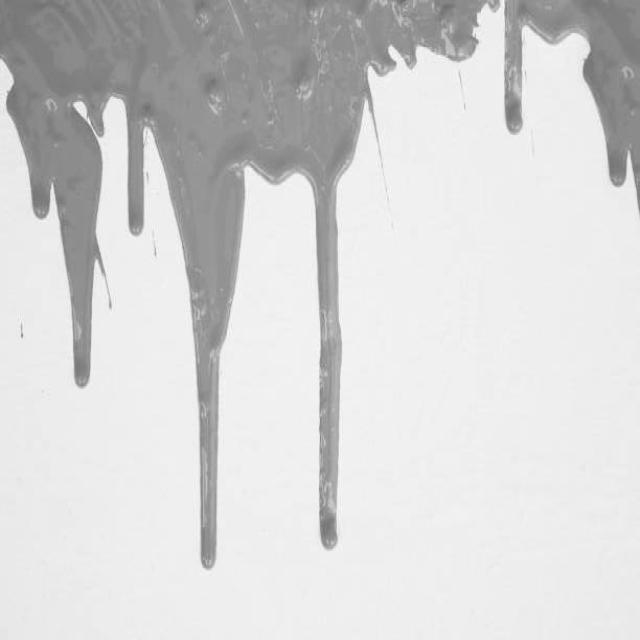paint drips: (117, 85, 370, 580), (0, 46, 116, 393), (504, 8, 640, 226), (368, 25, 482, 104), (478, 0, 505, 30)
